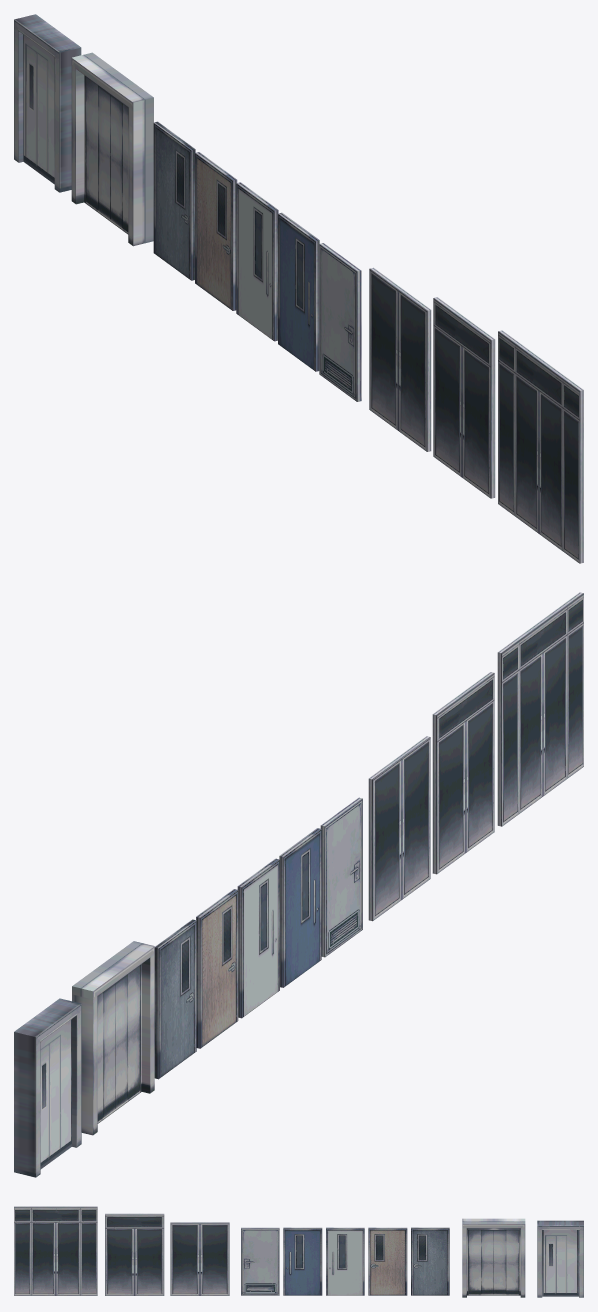
The model's file is LIBRARY DOORS Misc A.fbx.
3 views of the same model, one above another, from view 1: azimuth 30°, elevation 25°; view 2: azimuth 150°, elevation 25°; view 3: azimuth 270°, elevation 25° (orthographic). The views are drawn at different scales.
Visible parts, largest first — view 1: DOOR Glass Large, DOOR Elevator A Closed, DOOR Glass Med, DOOR A Double, DOOR Elevator B Closed, DOOR A Ext White A, DOOR A Reg Office White, DOOR A Reg Office BlueA, DOOR A Reg Office Brown, DOOR A Reg Office BlueB; view 2: DOOR Glass Large, DOOR Elevator A Closed, DOOR Elevator B Closed, DOOR Glass Med, DOOR A Double, DOOR A Reg Office Brown, DOOR A Reg Office BlueA, DOOR A Reg Office BlueB, DOOR A Reg Office White, DOOR A Ext White A; view 3: DOOR Glass Large, DOOR Elevator A Closed, DOOR Glass Med, DOOR A Double, DOOR Elevator B Closed, DOOR A Reg Office Brown, DOOR A Reg Office BlueB, DOOR A Reg Office BlueA, DOOR A Reg Office White, DOOR A Ext White A.
Part boxes in pixels (left/top/right/bottom): DOOR Glass Large: left=498, top=330, right=583, bottom=563; DOOR Elevator A Closed: left=71, top=52, right=153, bottom=246; DOOR Glass Med: left=433, top=297, right=495, bottom=498; DOOR A Double: left=369, top=267, right=431, bottom=451; DOOR Elevator B Closed: left=14, top=14, right=81, bottom=192; DOOR A Ext White A: left=319, top=243, right=361, bottom=401; DOOR A Reg Office White: left=236, top=182, right=278, bottom=341; DOOR A Reg Office BlueA: left=153, top=121, right=195, bottom=280; DOOR A Reg Office Brown: left=195, top=152, right=237, bottom=310; DOOR A Reg Office BlueB: left=278, top=212, right=319, bottom=371; DOOR Glass Large: left=497, top=592, right=583, bottom=826; DOOR Elevator A Closed: left=72, top=941, right=154, bottom=1135; DOOR Elevator B Closed: left=14, top=998, right=81, bottom=1177; DOOR Glass Med: left=432, top=672, right=494, bottom=874; DOOR A Double: left=368, top=736, right=430, bottom=921; DOOR A Reg Office Brown: left=196, top=889, right=238, bottom=1048; DOOR A Reg Office BlueA: left=154, top=919, right=196, bottom=1079; DOOR A Reg Office BlueB: left=279, top=828, right=321, bottom=987; DOOR A Reg Office White: left=237, top=858, right=279, bottom=1018; DOOR A Ext White A: left=320, top=797, right=362, bottom=957; DOOR Glass Large: left=14, top=1206, right=97, bottom=1295; DOOR Elevator A Closed: left=462, top=1218, right=525, bottom=1297; DOOR Glass Med: left=105, top=1213, right=164, bottom=1295; DOOR A Double: left=170, top=1222, right=229, bottom=1295; DOOR Elevator B Closed: left=537, top=1220, right=583, bottom=1297; DOOR A Reg Office Brown: left=368, top=1227, right=407, bottom=1295; DOOR A Reg Office BlueB: left=283, top=1227, right=322, bottom=1295; DOOR A Reg Office BlueA: left=411, top=1227, right=449, bottom=1295; DOOR A Reg Office White: left=326, top=1227, right=364, bottom=1295; DOOR A Ext White A: left=241, top=1227, right=279, bottom=1295.
Size of the model in its own units: 39.58 by 299 by 1744.
